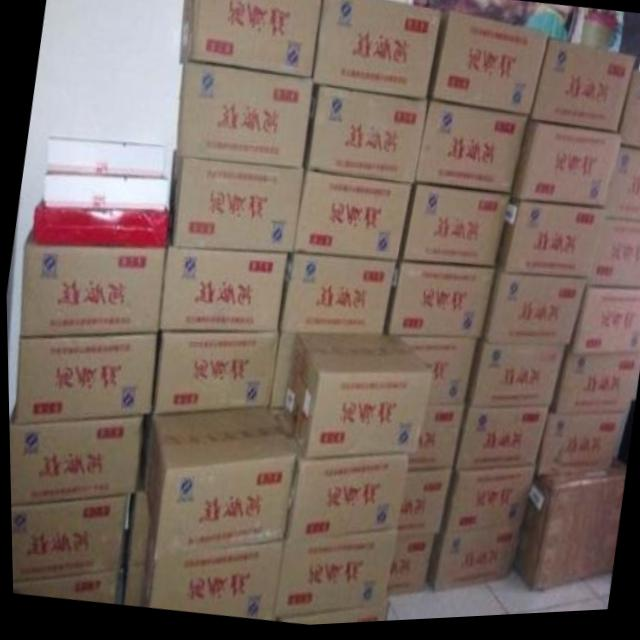box: (142, 413, 292, 568), (269, 333, 432, 462), (268, 415, 406, 544), (20, 227, 167, 337), (175, 63, 312, 171), (512, 467, 624, 599), (311, 0, 442, 104), (7, 404, 141, 504), (9, 337, 158, 424), (170, 157, 302, 254), (428, 17, 549, 121), (307, 89, 427, 187), (178, 0, 321, 82), (292, 172, 413, 266), (138, 544, 281, 622), (159, 244, 287, 331), (415, 104, 529, 200), (152, 333, 278, 419), (271, 534, 394, 620), (529, 44, 635, 139), (277, 255, 394, 338), (509, 125, 619, 213), (9, 496, 125, 578), (494, 203, 606, 285), (387, 265, 497, 347), (402, 189, 508, 271), (481, 273, 587, 352), (437, 468, 534, 540), (463, 347, 565, 412), (450, 410, 547, 476), (423, 530, 517, 598), (548, 355, 638, 420), (398, 340, 476, 410), (532, 418, 620, 480), (565, 291, 640, 360), (404, 406, 463, 474), (586, 222, 640, 296), (395, 474, 450, 540), (10, 571, 117, 604), (271, 601, 388, 628), (385, 537, 430, 599), (604, 154, 640, 227), (617, 77, 640, 156), (124, 494, 148, 568), (120, 565, 145, 607)
